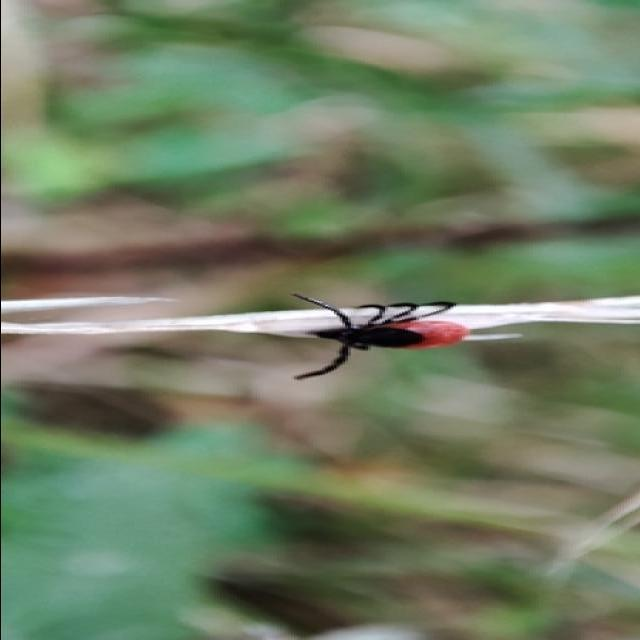Ixodes Ricinus-F: (287, 293, 469, 380)
